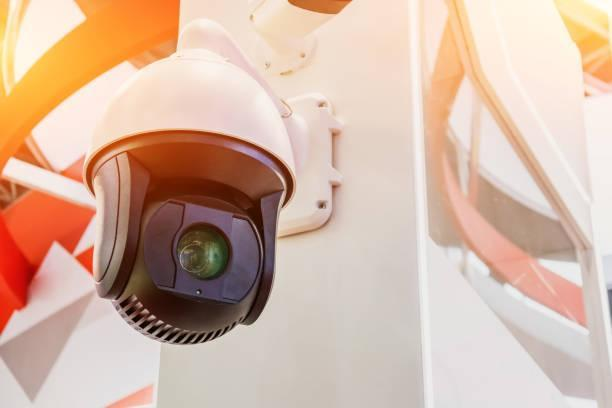camera: (43, 41, 346, 355)
